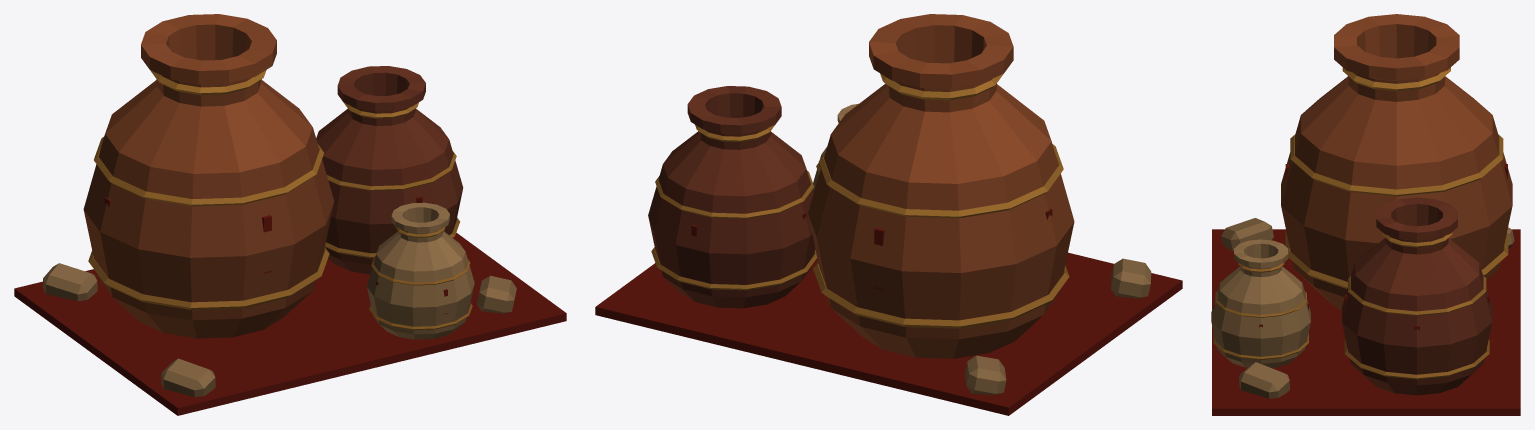
File: BO_SM_Prop_DesertUrns_v001.glb
The picture shows the model from 3 angles, left to right: view 1: azimuth 30°, elevation 25°; view 2: azimuth 150°, elevation 25°; view 3: azimuth 270°, elevation 25°; orthographic projection. The views are drawn at different scales.
Visible parts, largest first — view 1: SM_Prop_DesertUrns_LOD0; view 2: SM_Prop_DesertUrns_LOD0; view 3: SM_Prop_DesertUrns_LOD0.
Boxes of the visible parts, bbox=[...] form: SM_Prop_DesertUrns_LOD0: bbox=[14, 14, 566, 415]; SM_Prop_DesertUrns_LOD0: bbox=[595, 14, 1182, 415]; SM_Prop_DesertUrns_LOD0: bbox=[1211, 14, 1520, 415].
Size of what is drawn, in the model's own units: 1.25 by 0.8325 by 0.9117.
